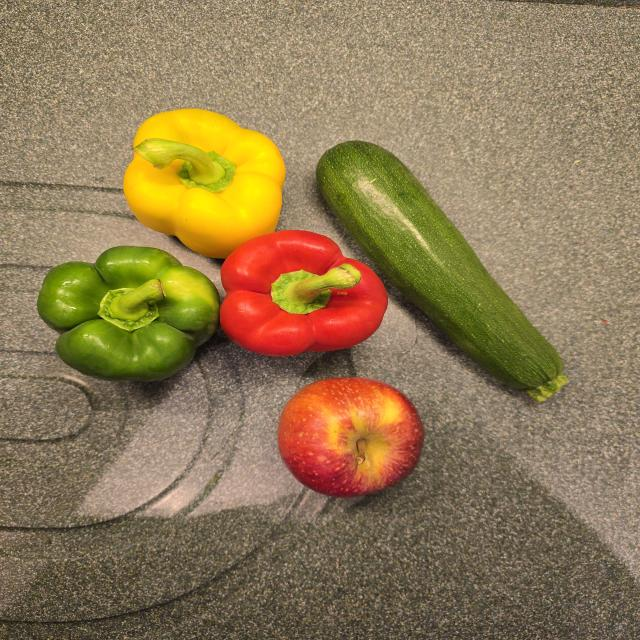Apple: (278, 378, 424, 497)
Bell Pepper: (36, 246, 219, 381), (123, 109, 285, 258), (220, 230, 386, 356)
Courgette: (316, 141, 567, 401)
